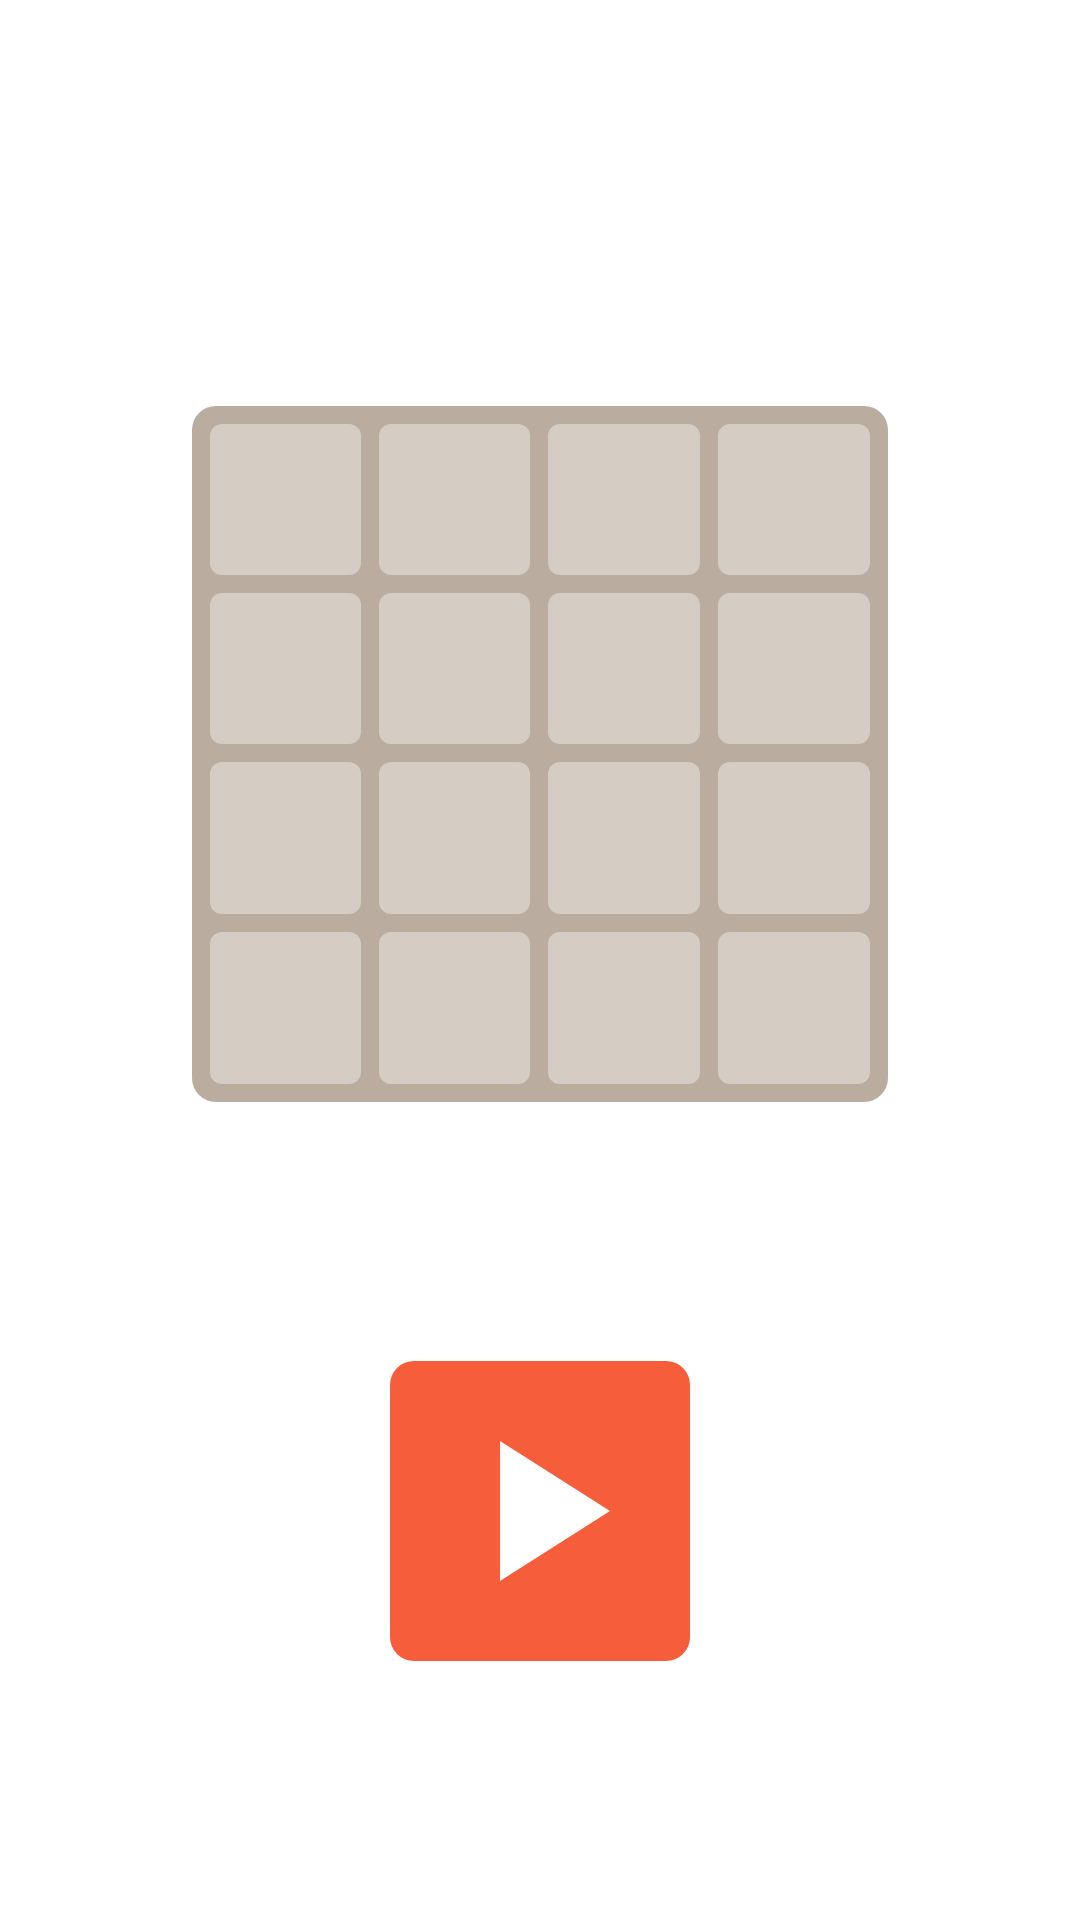

Screen size 1080px×1920px. Icon name, then its box in pixels as (x1, y1, x2, y2):
play: (390, 1361, 690, 1661)
